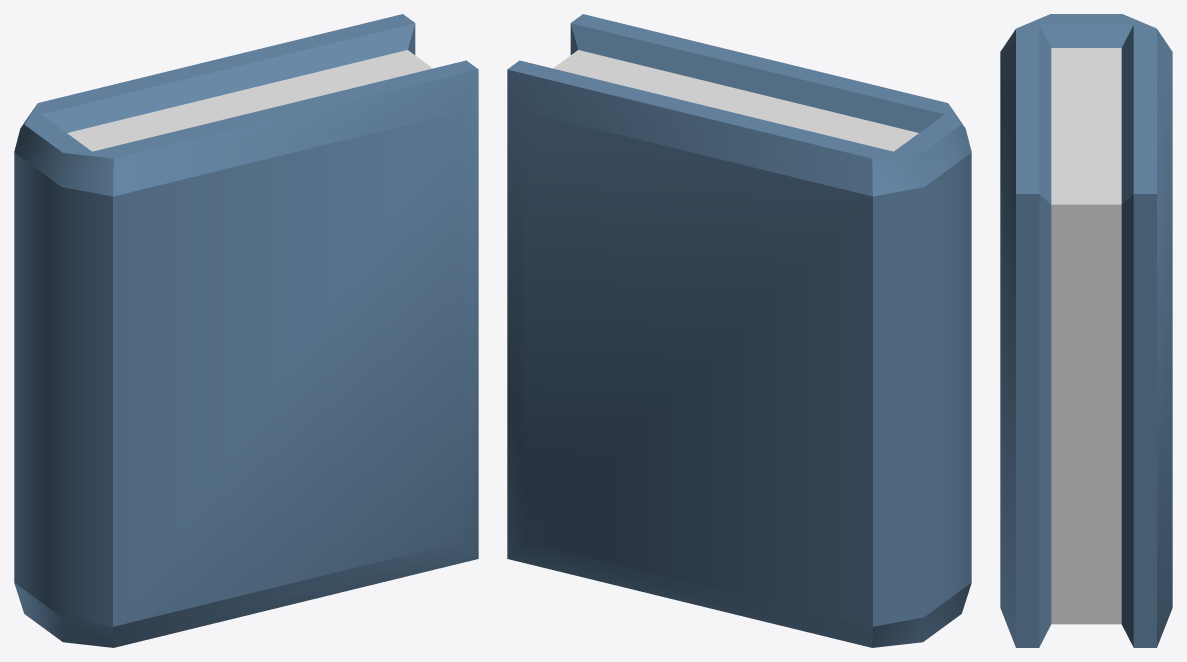
Rendered from bookF.dae.
The picture shows the model from 3 angles, left to right: view 1: azimuth 30°, elevation 25°; view 2: azimuth 150°, elevation 25°; view 3: azimuth 270°, elevation 25°; orthographic projection. The views are drawn at different scales.
Visible parts, largest first — view 1: bookF; view 2: bookF; view 3: bookF.
Boxes of the visible parts, box(x1,y1,x2,y2) form: bookF: box(14, 14, 478, 647); bookF: box(507, 14, 971, 647); bookF: box(1000, 14, 1172, 647).
Bounding box in the file's own units: 0.3586 × 0.1431 × 0.4161.
